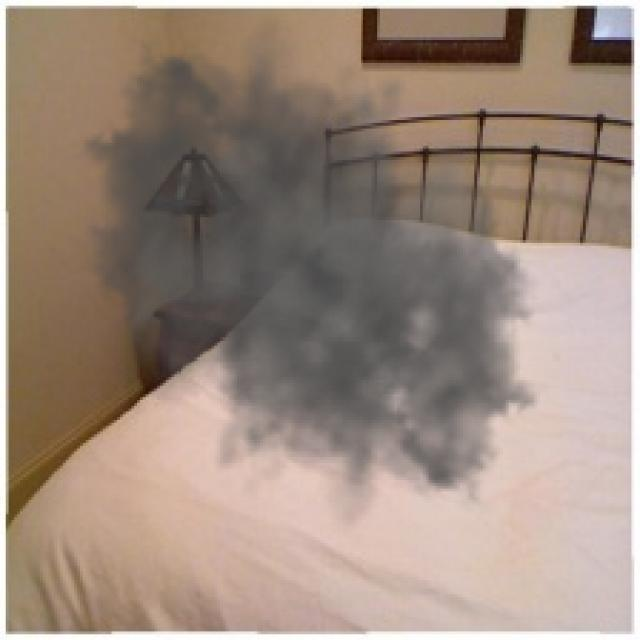Smoke: (49, 14, 572, 532)
